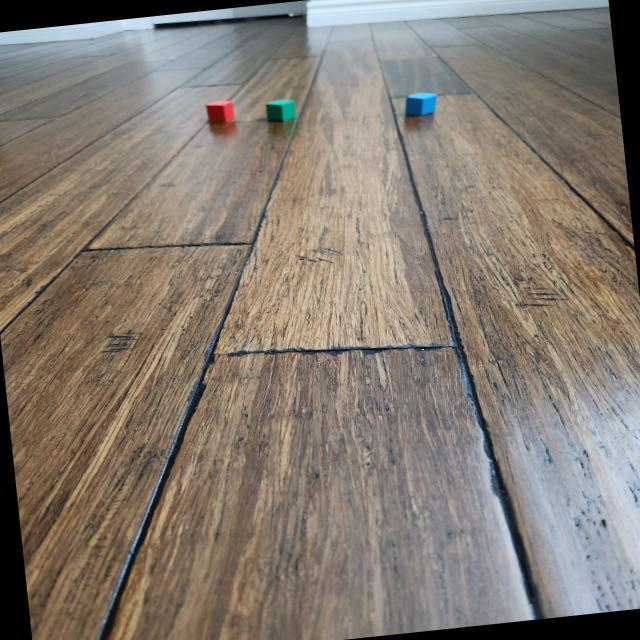bluecube: (403, 90, 438, 118)
green cube: (264, 96, 298, 124)
red cube: (206, 98, 237, 124)
